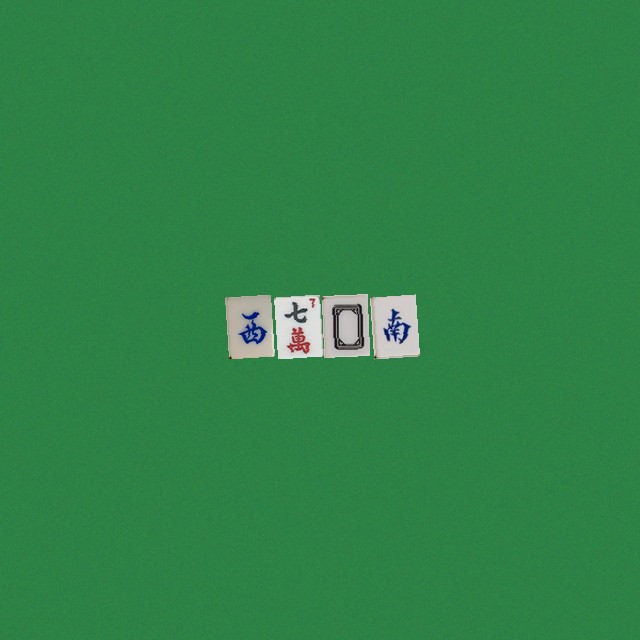tile: (225, 294, 271, 356), (273, 294, 319, 356), (321, 294, 367, 356), (369, 294, 415, 356)
